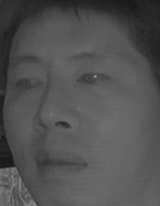eye: (75, 68, 114, 91), (13, 72, 44, 94)
mouth: (32, 145, 89, 183)
